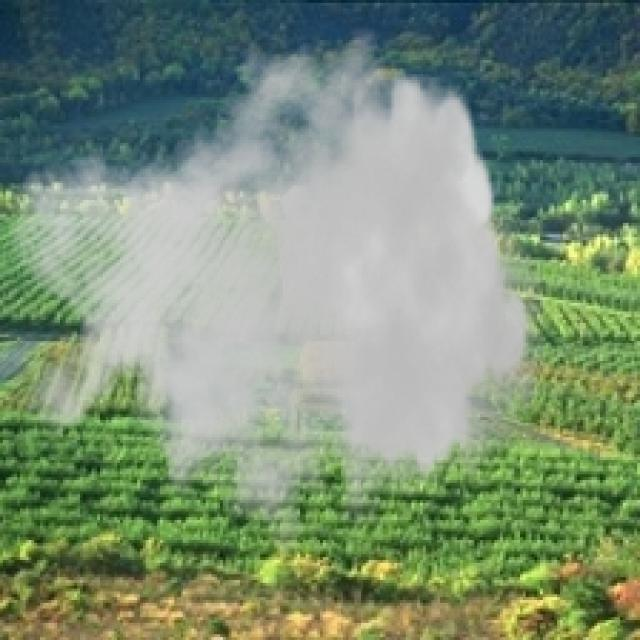smoke: (6, 17, 548, 586)
